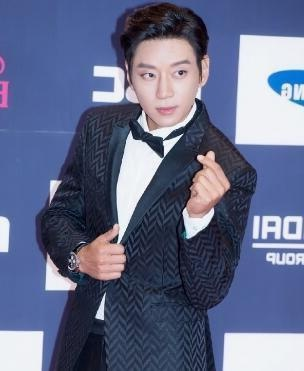oneheart: (180, 150, 236, 206)
